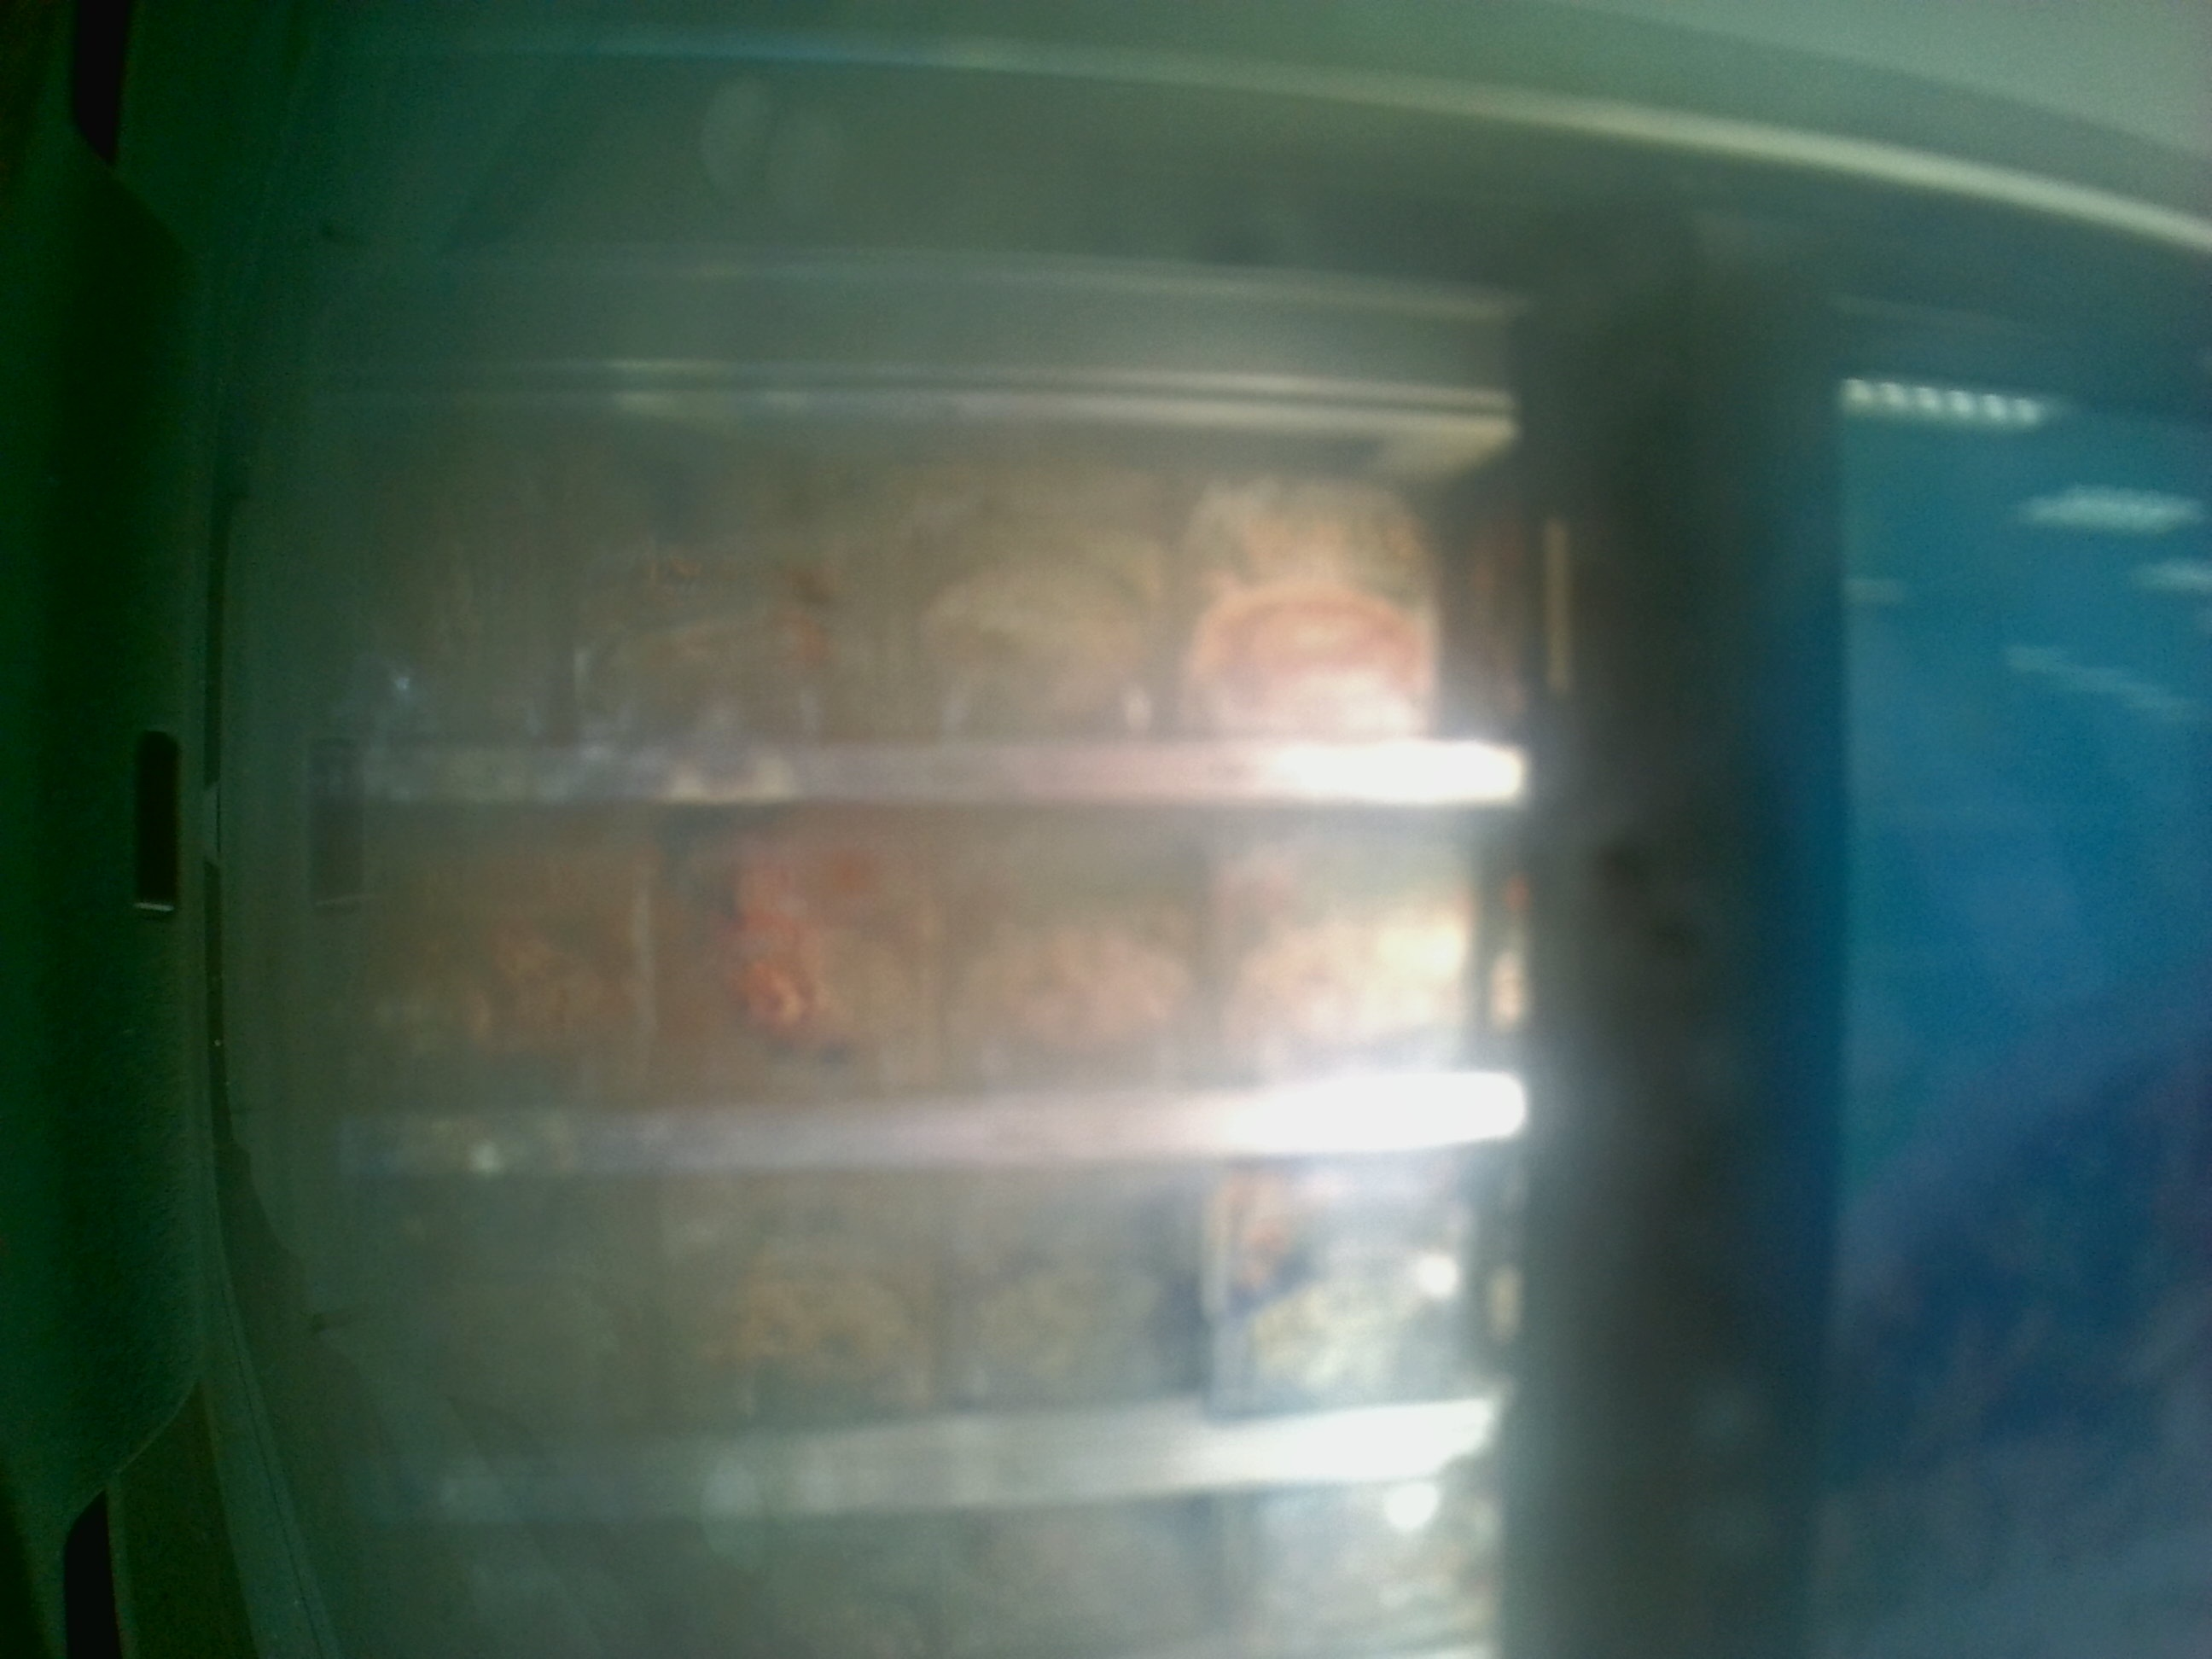frozen-food-shelf: (307, 803, 1526, 1183), (308, 446, 1519, 807), (308, 1185, 1554, 1527)
